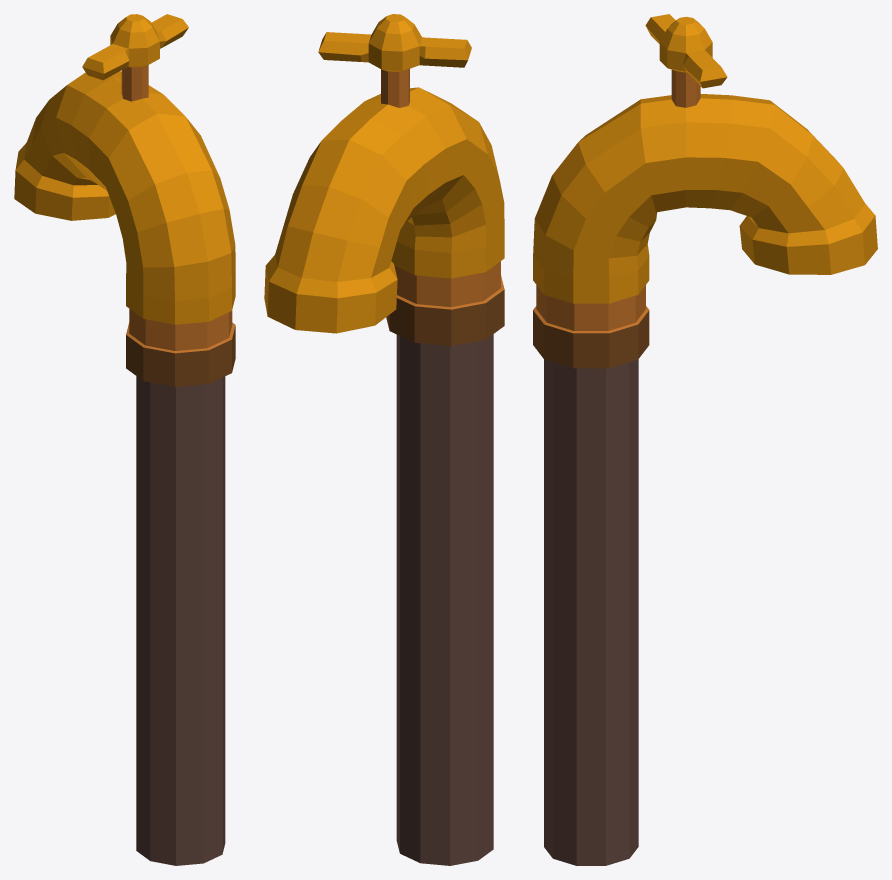
Rendered from waterpipo.glb.
3 views of the same model, side by side, from view 1: azimuth 30°, elevation 25°; view 2: azimuth 150°, elevation 25°; view 3: azimuth 270°, elevation 25° (orthographic). The views are drawn at different scales.
Parts seen in each view (by area): view 1: waterpipo, water_tap; view 2: waterpipo, water_tap; view 3: waterpipo, water_tap.
Boxes of the visible parts, x1,y1,x2,y2 form: waterpipo: (14,71,235,865); water_tap: (82,14,188,101); waterpipo: (264,87,504,865); water_tap: (318,14,471,107); waterpipo: (533,94,877,865); water_tap: (645,14,727,107).
Bounding box in the file's own units: 0.3485 × 2.2 × 0.8309.
Materials: 1 (1 with a texture image).
